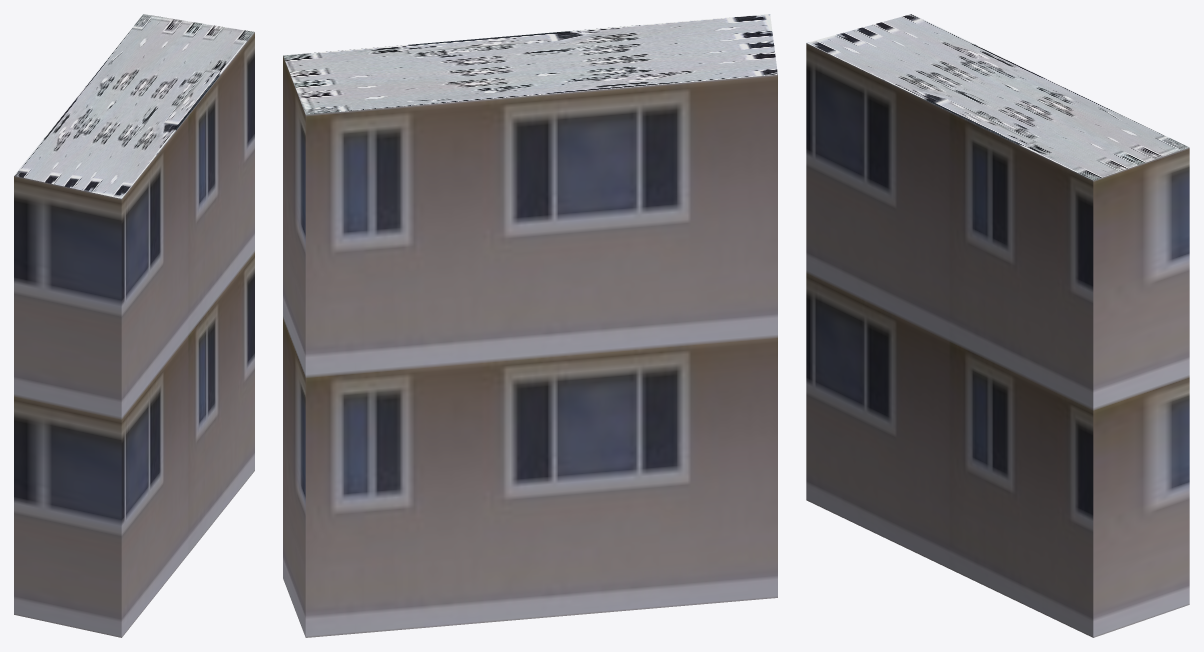
File: ResTex__2760.fbx
3 renders of one model, left to right at view 1: azimuth 30°, elevation 25°; view 2: azimuth 150°, elevation 25°; view 3: azimuth 270°, elevation 25°, orthographic. The views are drawn at different scales.
Parts seen in each view (by area): view 1: CityEngineMaterial_21_m, CityEngineMaterial_4_m; view 2: CityEngineMaterial_21_m, CityEngineMaterial_4_m; view 3: CityEngineMaterial_21_m, CityEngineMaterial_4_m.
Boxes of the visible parts, x1=… form: CityEngineMaterial_21_m: x1=14, y1=32, x2=254, y2=637; CityEngineMaterial_4_m: x1=14, y1=14, x2=254, y2=198; CityEngineMaterial_21_m: x1=283, y1=56, x2=777, y2=637; CityEngineMaterial_4_m: x1=283, y1=14, x2=777, y2=114; CityEngineMaterial_21_m: x1=806, y1=43, x2=1189, y2=637; CityEngineMaterial_4_m: x1=807, y1=14, x2=1189, y2=180.
Size of the model in its own units: 4.69 by 6 by 4.56.
Materials: 2 (2 with a texture image).
